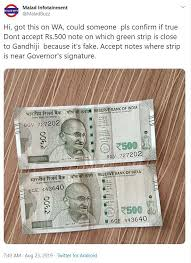fiveHundred: (20, 117, 145, 157), (26, 181, 150, 219)
